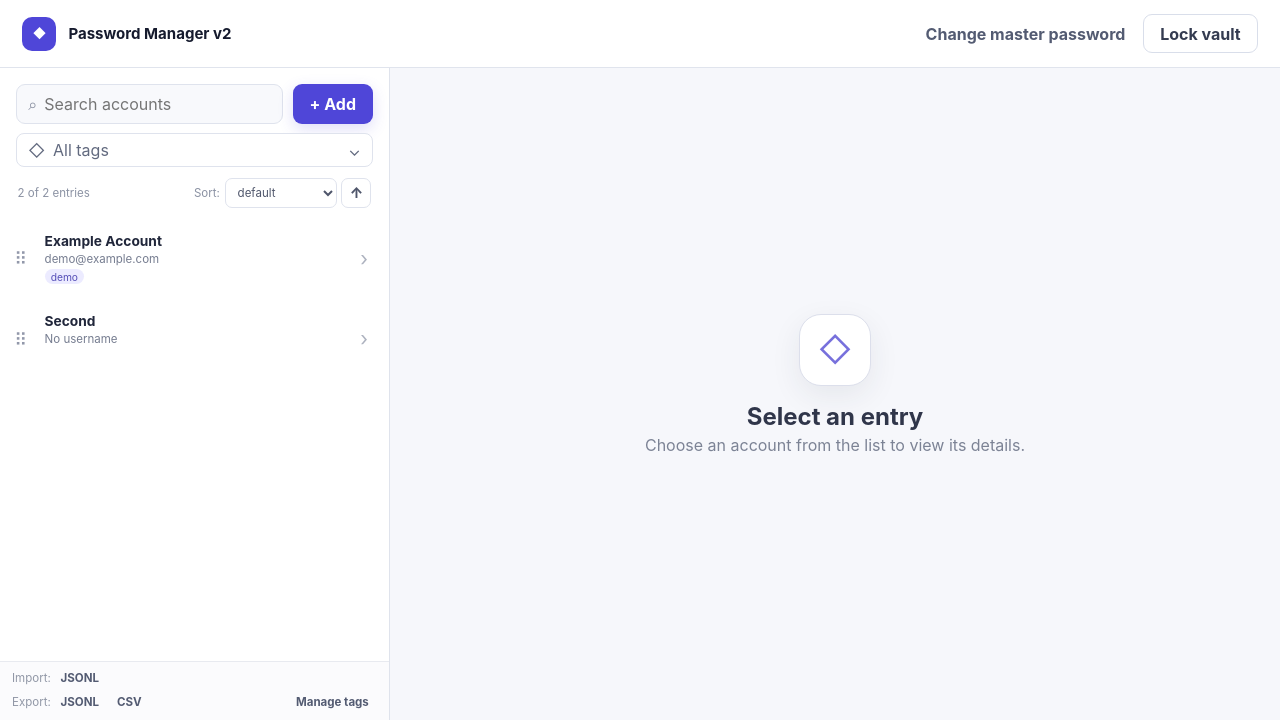
App › keeps selection and confirmed order through a keyboard move (failure=true)
Step 1. Click the button "Example Account demo@example.com demo ›" → {"x": 103, "y": 241}, box [33,220,379,297]
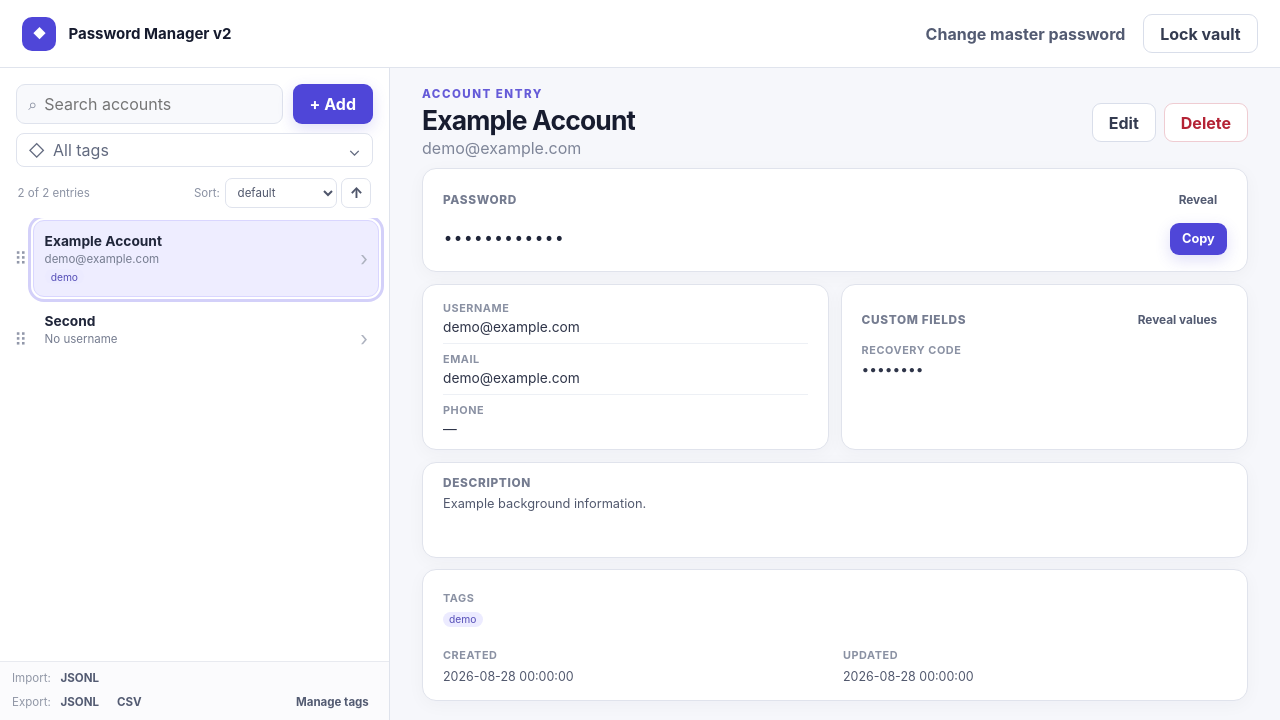
Step 2. Press Space in the button named "Reorder Example Account", box [10,242,32,276]
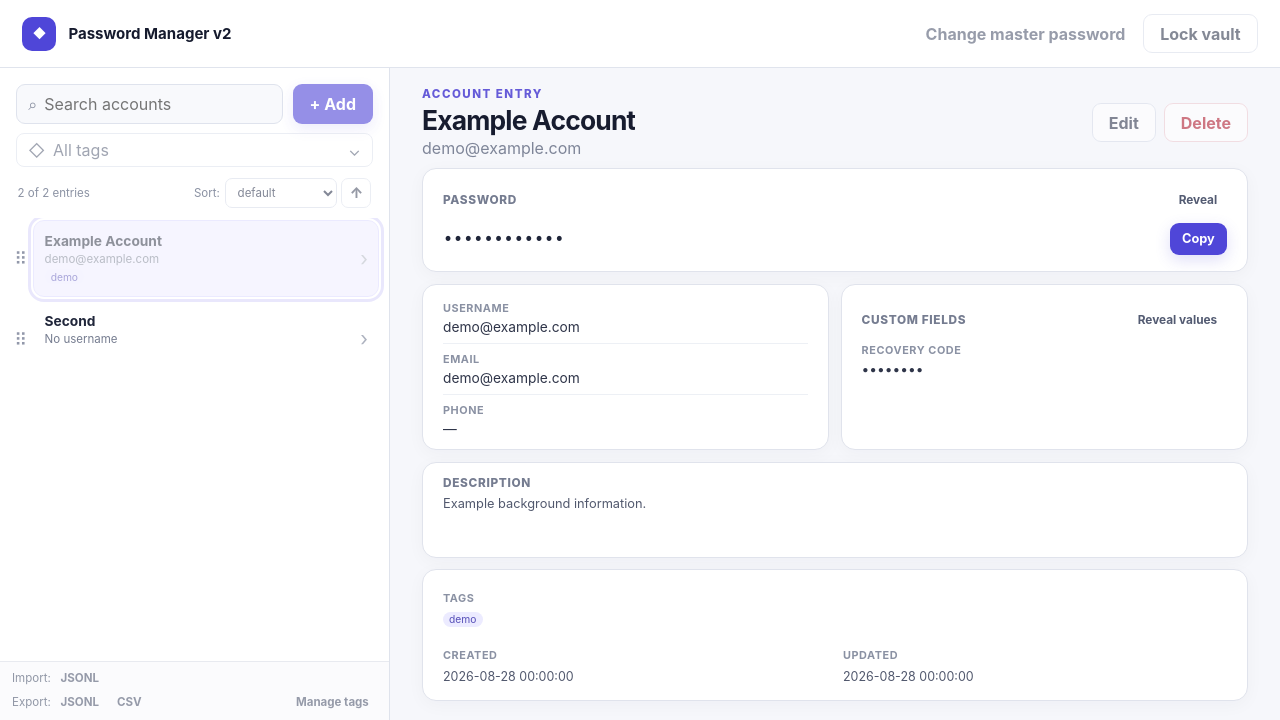
expect the dropdown named "Sort accounts by" is disabled: met, box [225,178,337,208]
expect the button "Lock vault" is disabled: met, box [1143,14,1258,53]
Step 3. Press End in the button named "Reorder Example Account", box [10,242,32,276]
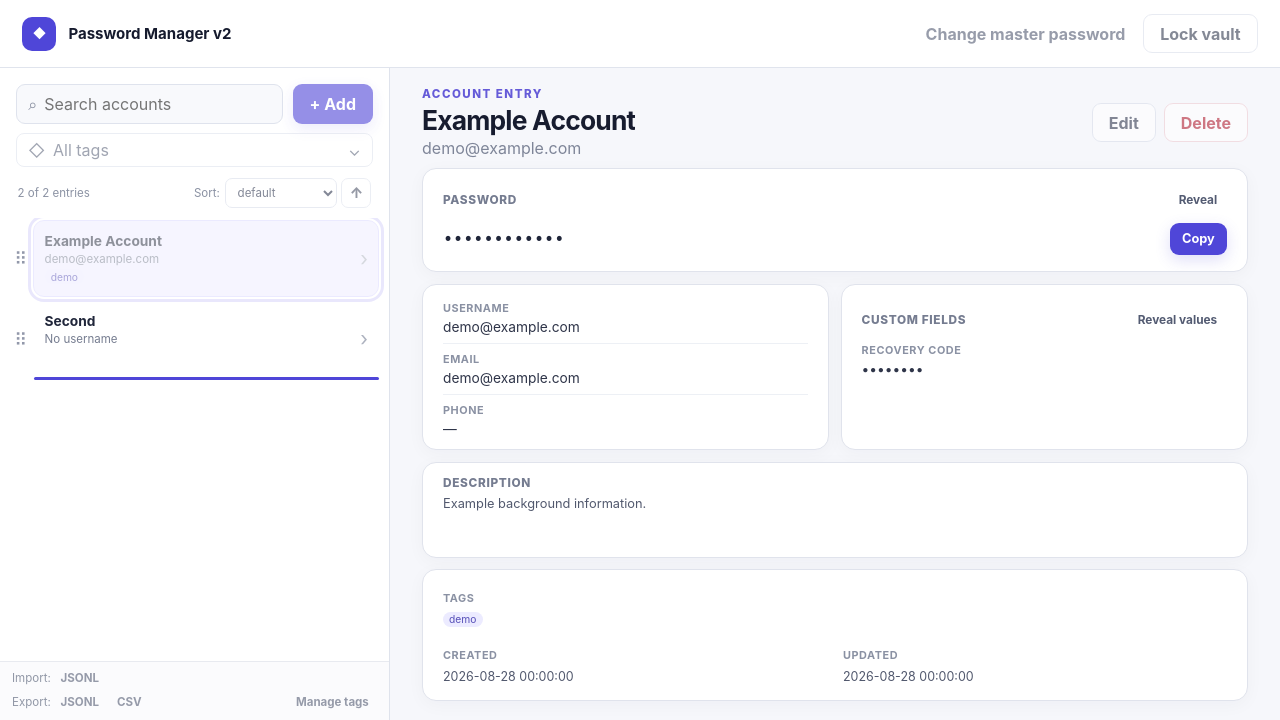
Step 4. Press Space in the button named "Reorder Example Account", box [10,242,32,276]
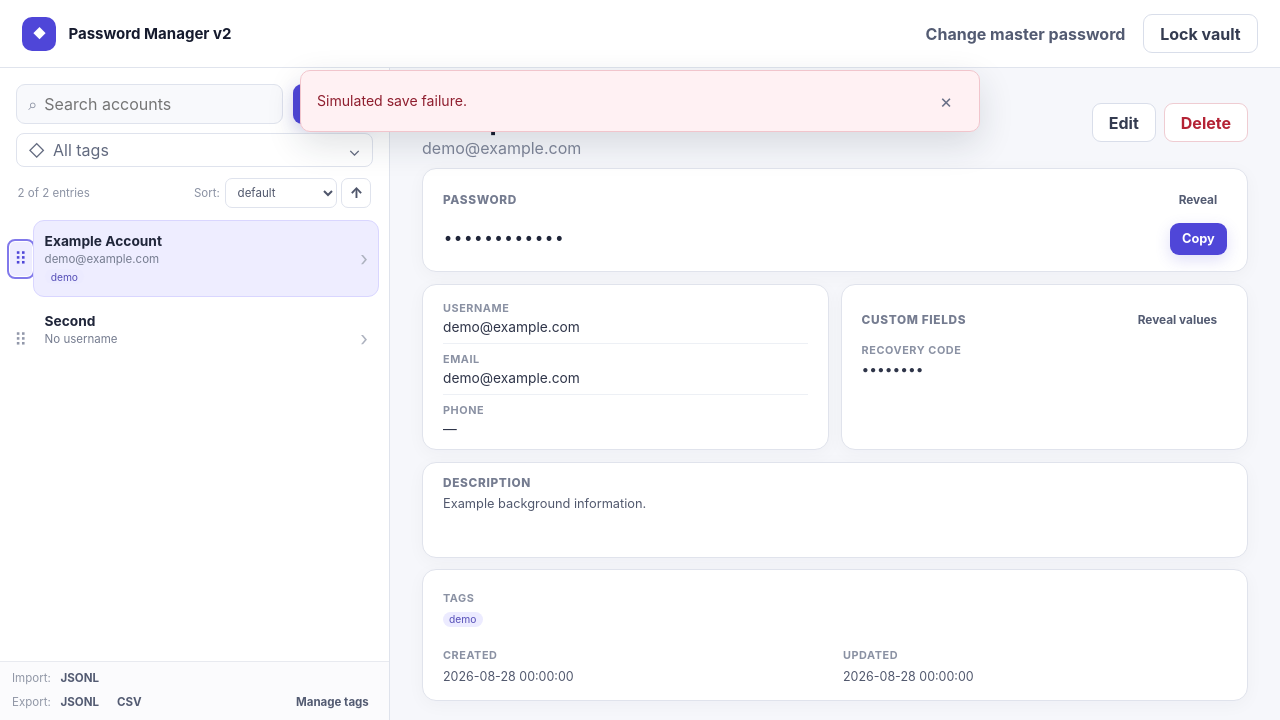
expect the heading "Example Account" is shown: met, box [422,104,635,136]
expect the message shows "Simulated save failure.": met, box [317,92,467,109]
